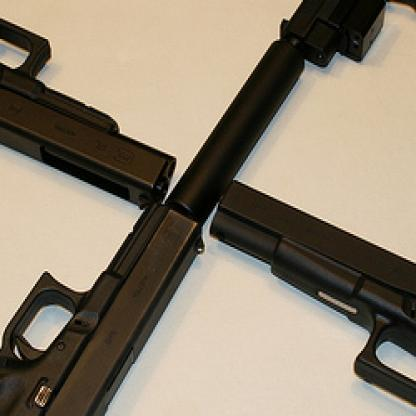gun: (177, 0, 415, 231), (205, 169, 414, 414), (0, 197, 208, 414), (0, 0, 180, 214)
